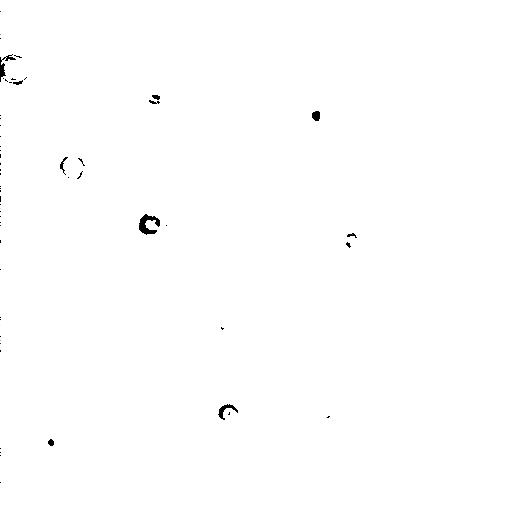micro-algae: (131, 203, 169, 241), (481, 166, 511, 209), (297, 97, 332, 129), (335, 229, 369, 257), (38, 425, 67, 457), (1, 53, 30, 83), (58, 152, 83, 181), (405, 499, 445, 511), (220, 404, 239, 423)
